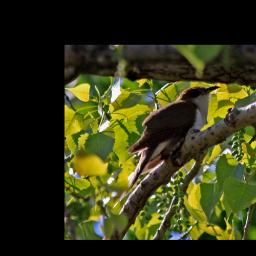Cuckoo: (124, 84, 221, 201)
